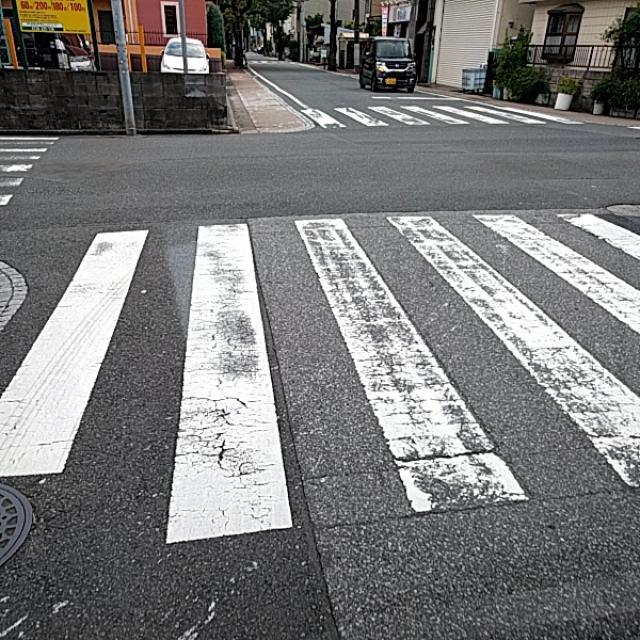pothole: (165, 347, 270, 511)
